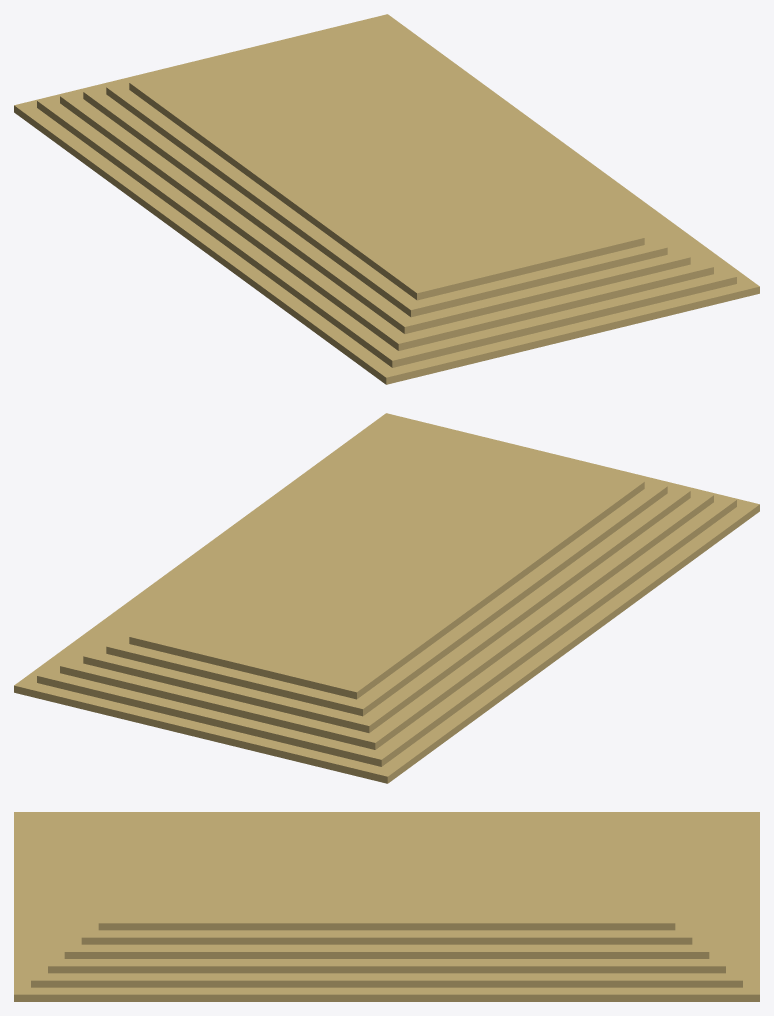
Rendered from Prop_Stairs_Grand_Sandstone_03.fbx.
3 views of the same model, one above another, from view 1: azimuth 30°, elevation 25°; view 2: azimuth 150°, elevation 25°; view 3: azimuth 270°, elevation 25° (orthographic).
Parts seen in each view (by area): view 1: Prop_Stairs_Grand_Sandstone_03; view 2: Prop_Stairs_Grand_Sandstone_03; view 3: Prop_Stairs_Grand_Sandstone_03.
Boxes of the visible parts, box(x1,y1,x2,y2) form: Prop_Stairs_Grand_Sandstone_03: box(14, 14, 759, 384); Prop_Stairs_Grand_Sandstone_03: box(14, 413, 759, 783); Prop_Stairs_Grand_Sandstone_03: box(14, 812, 759, 1001).
Bounding box in the file's own units: 190 × 20.77 × 328.
